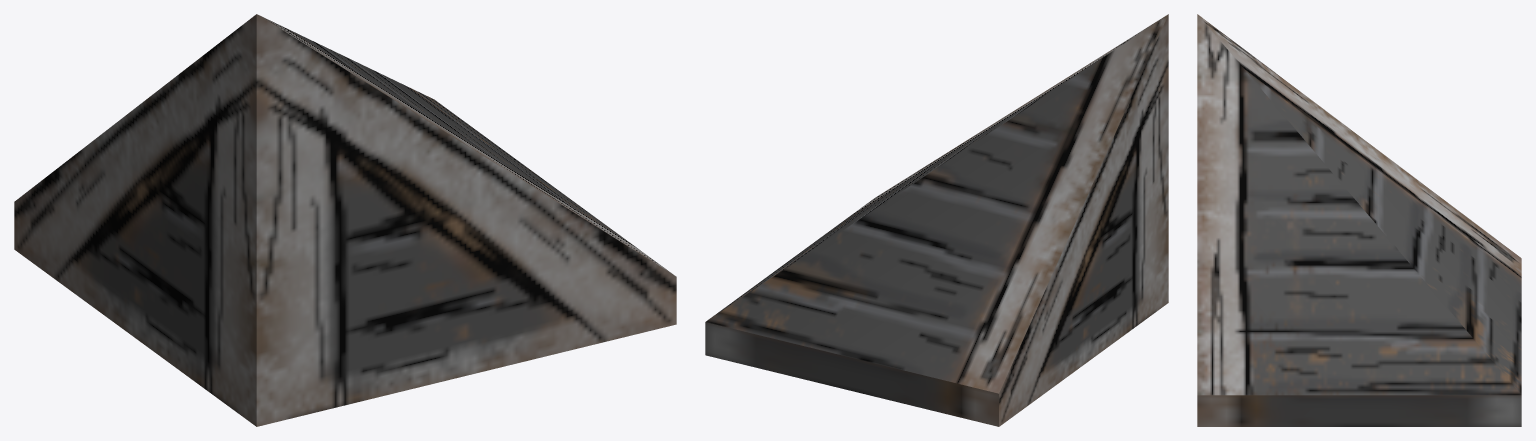
The model's file is Roof_Straight_Corner_Outside.fbx.
3 renders of one model, left to right at view 1: azimuth 30°, elevation 25°; view 2: azimuth 150°, elevation 25°; view 3: azimuth 270°, elevation 25°, orthographic. The views are drawn at different scales.
Visible parts, largest first — view 1: roof_straight_corner_outside; view 2: roof_straight_corner_outside; view 3: roof_straight_corner_outside.
Boxes of the visible parts, x1,y1,x2,y2 form: roof_straight_corner_outside: [14, 14, 676, 426]; roof_straight_corner_outside: [705, 14, 1168, 426]; roof_straight_corner_outside: [1197, 14, 1521, 426].
Bounding box in the file's own units: 5.16 × 4.84 × 5.16.
